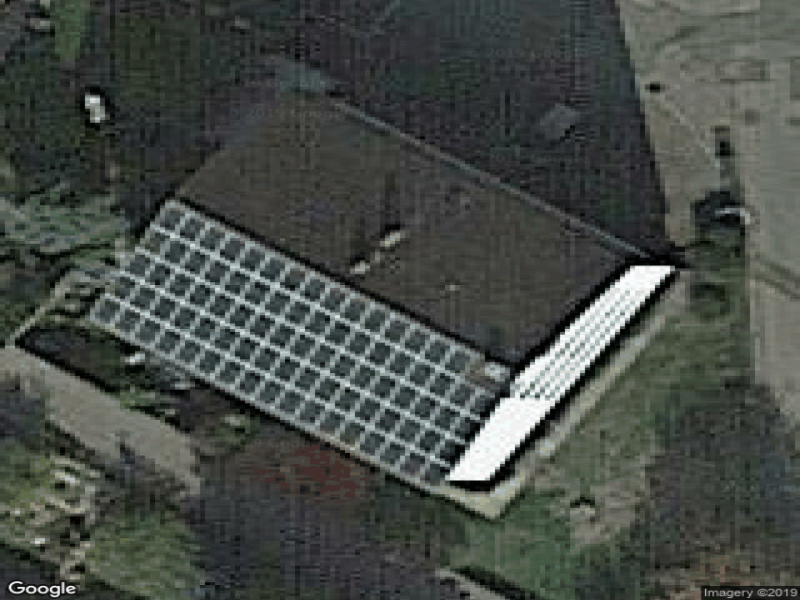pv: (95, 206, 504, 489)
